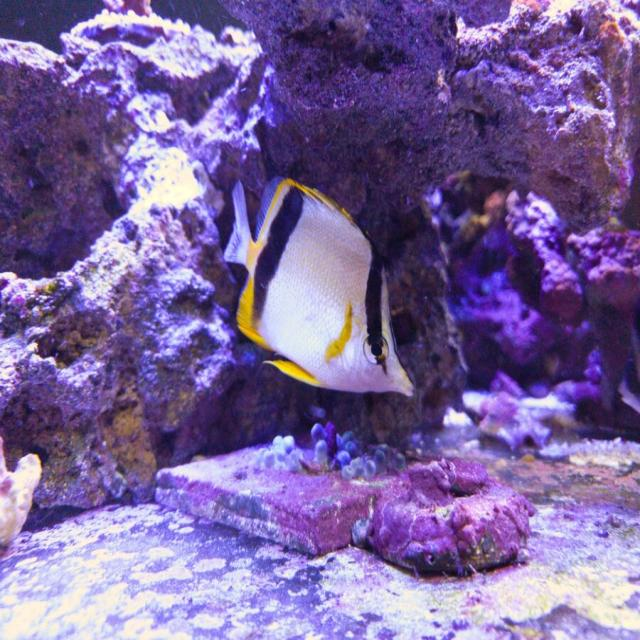ButterflyFish: (228, 176, 417, 410)
